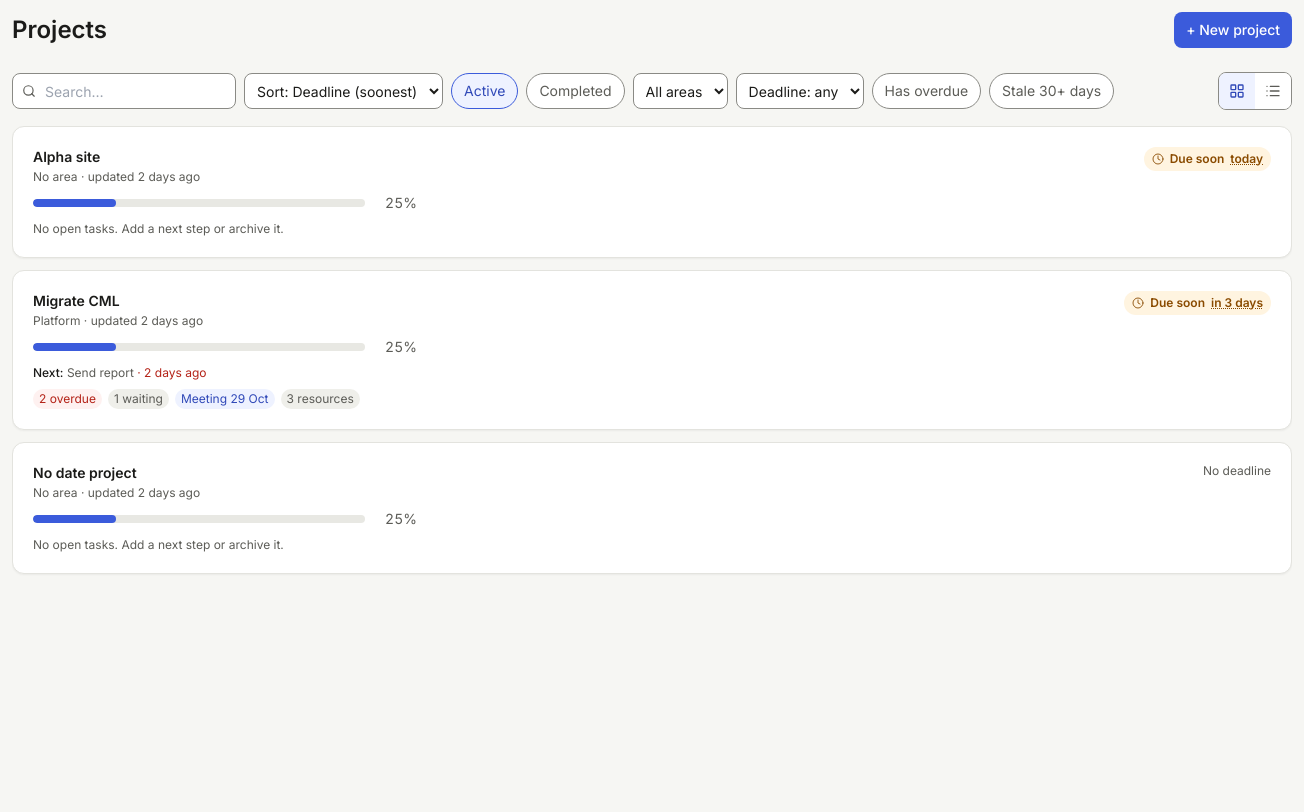
Scenario: ProjectsPage › typing in the search box updates the URL after a pause
Expected: the heading "Migrate CML" is shown, [33,292,120,309]
In the search field named "Search projects": (124, 91) [12,73,236,109], type "alpha"
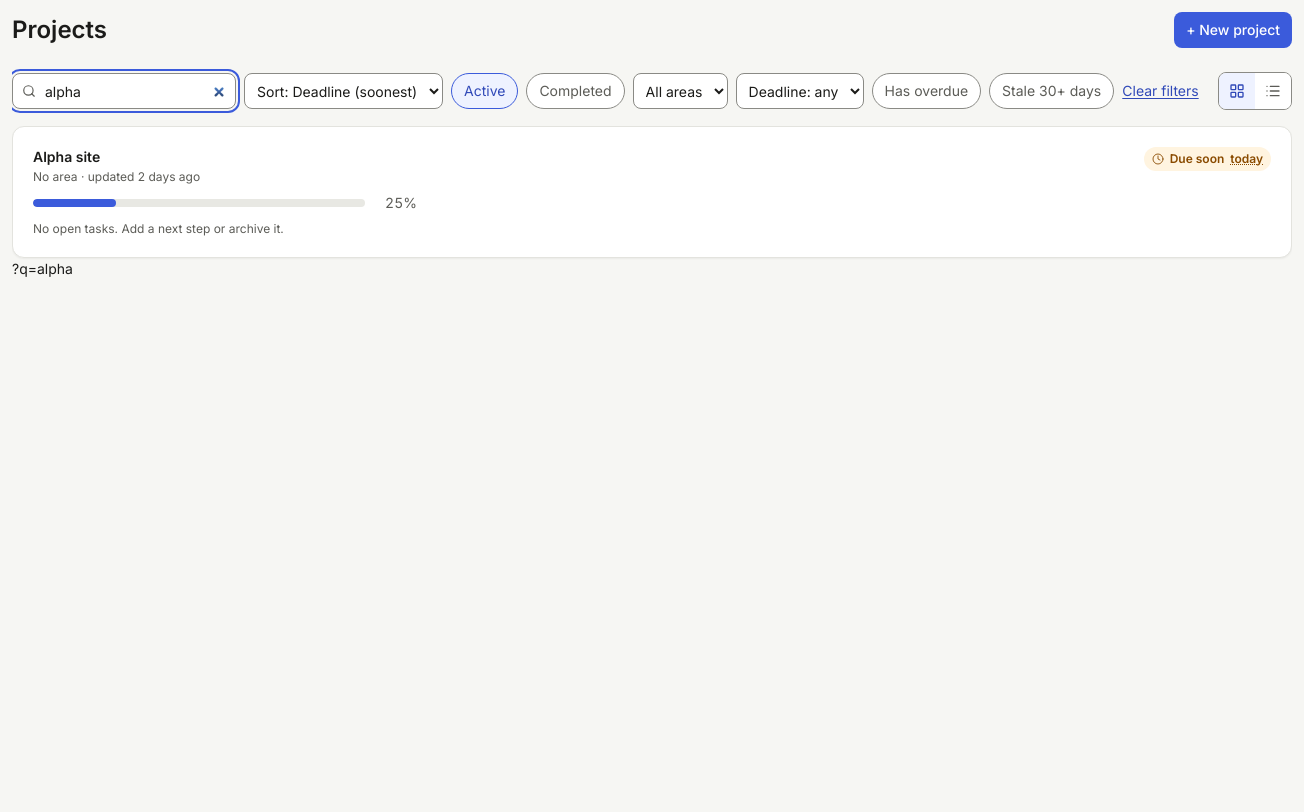
Result: the text with test id "search" reads "?q=alpha" at [12,260,73,277]
